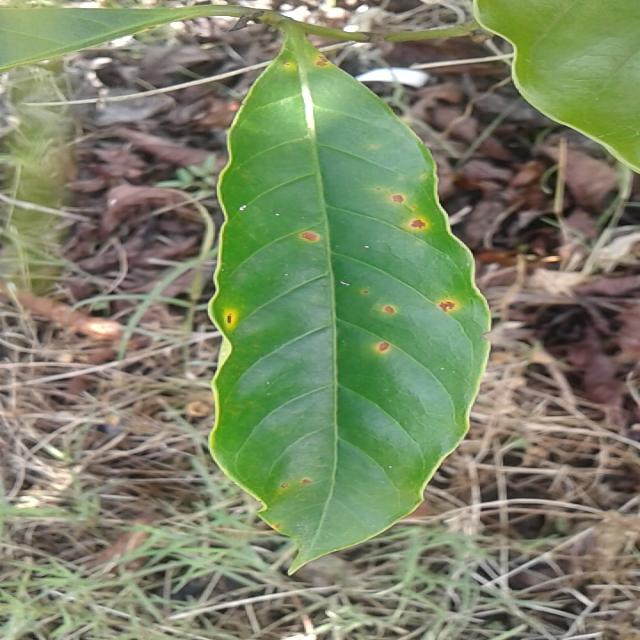Enfermedad-Roya: (206, 20, 492, 569)
